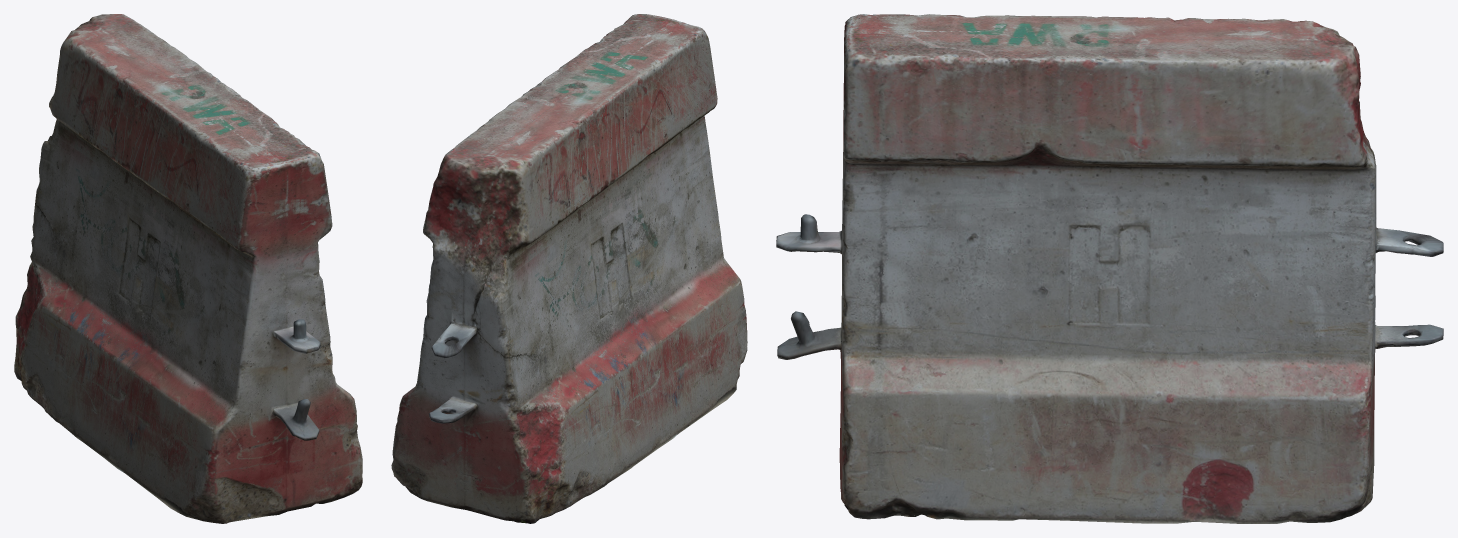
Rendered from concrete_barrier_03.glb.
3 renders of one model, left to right at view 1: azimuth 30°, elevation 25°; view 2: azimuth 150°, elevation 25°; view 3: azimuth 270°, elevation 25°, orthographic. The views are drawn at different scales.
Parts seen in each view (by area): view 1: Concrete_Barricade_03; view 2: Concrete_Barricade_03; view 3: Concrete_Barricade_03.
Part boxes in pixels (bbox=[...]): Concrete_Barricade_03: bbox=[14, 14, 362, 523]; Concrete_Barricade_03: bbox=[391, 14, 747, 523]; Concrete_Barricade_03: bbox=[776, 14, 1443, 523].
Size of the model in its own units: 0.7367 by 1.45 by 2.
Materials: 1 (1 with a texture image).
